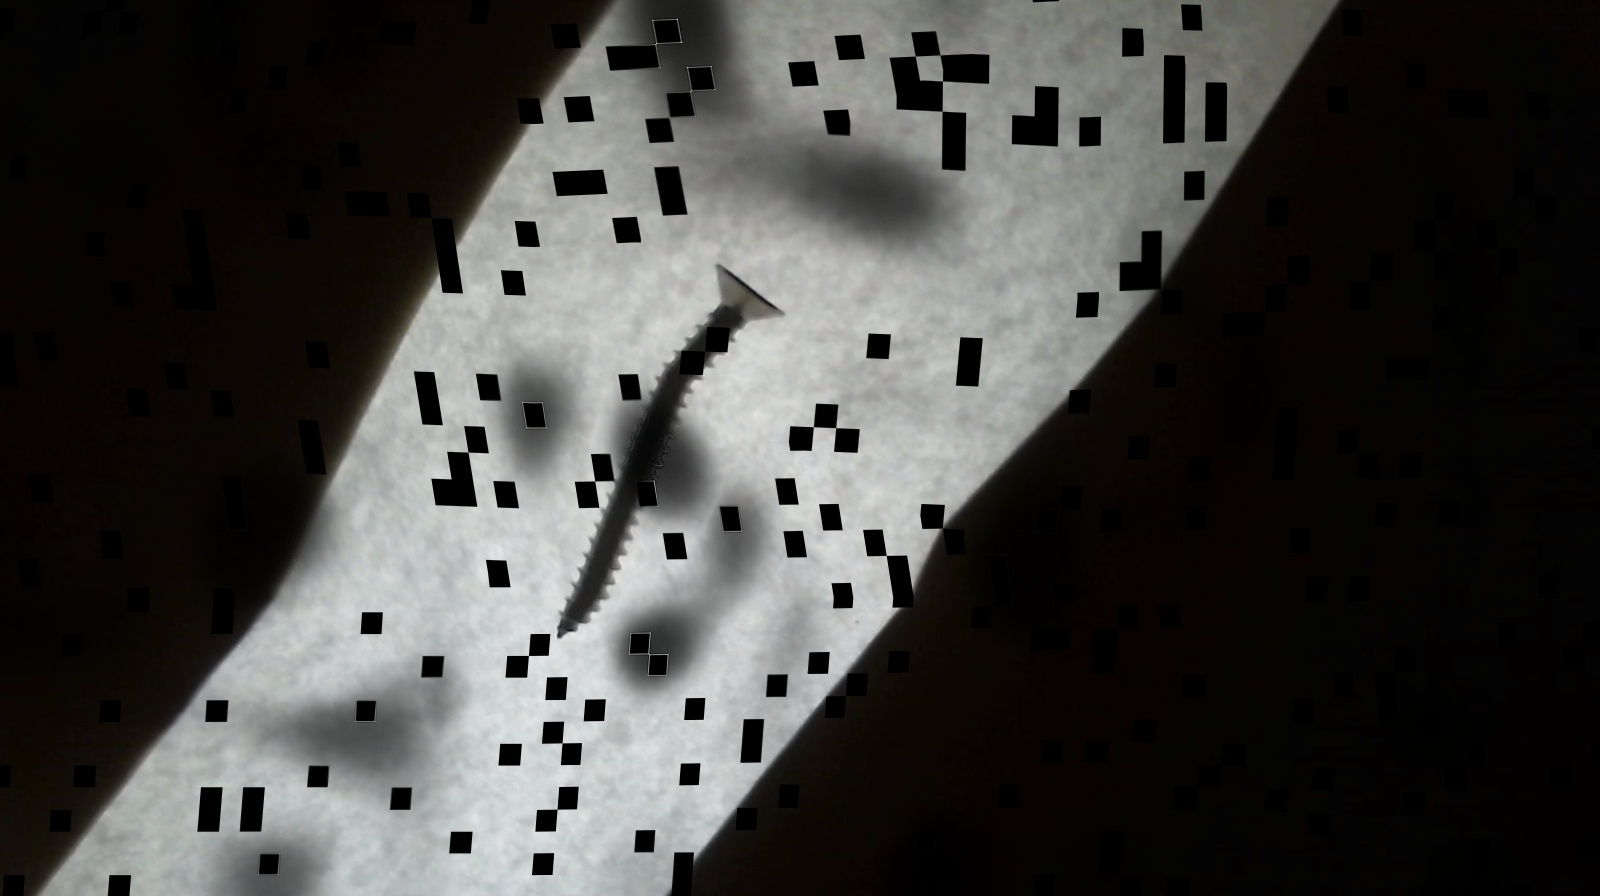S002: (488, 251, 800, 648)
